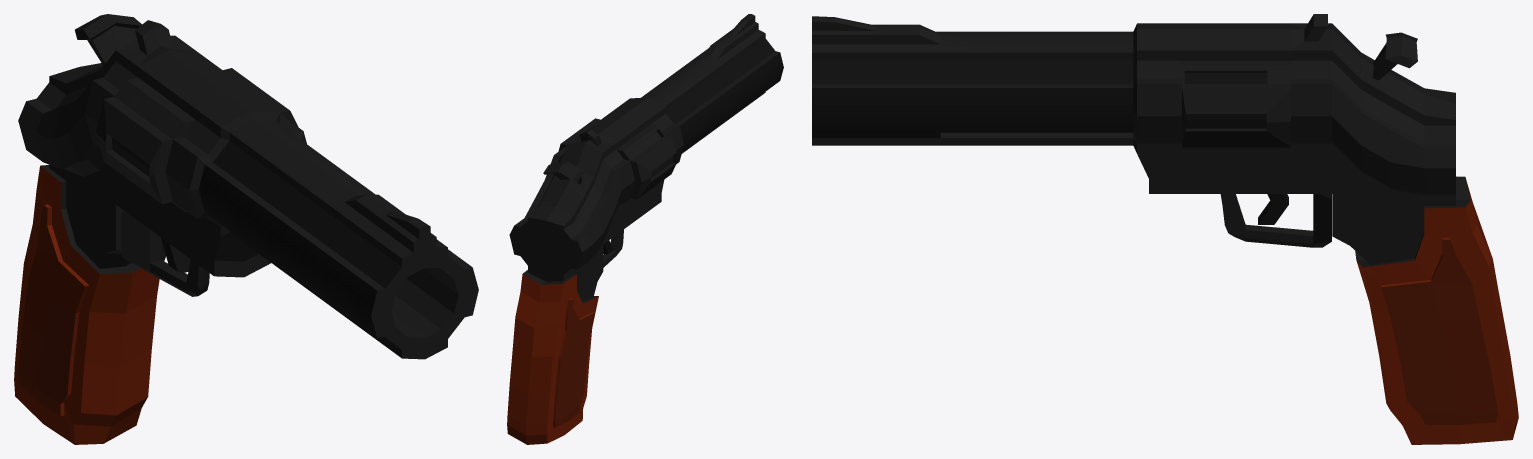
File: Gun.FBX
3 renders of one model, left to right at view 1: azimuth 30°, elevation 25°; view 2: azimuth 150°, elevation 25°; view 3: azimuth 270°, elevation 25°, orthographic. The views are drawn at different scales.
Parts seen in each view (by area): view 1: Cylinder001; view 2: Cylinder001; view 3: Cylinder001.
Part boxes in pixels (left/top/right/bottom): Cylinder001: left=14, top=14, right=478, bottom=444; Cylinder001: left=507, top=14, right=783, bottom=444; Cylinder001: left=812, top=14, right=1518, bottom=444.
Size of the model in its own units: 13.19 by 38.14 by 57.48.
